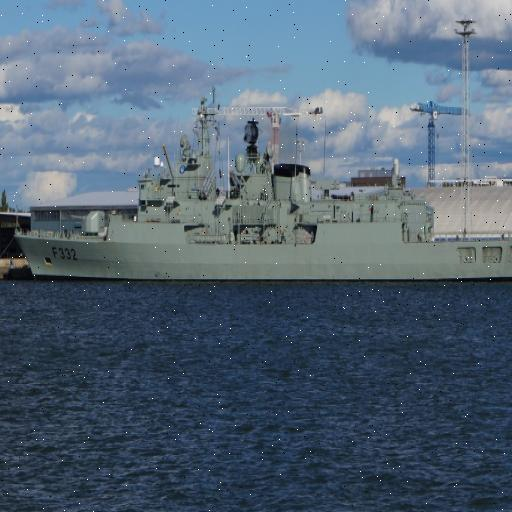Fragata: (10, 89, 512, 288)
